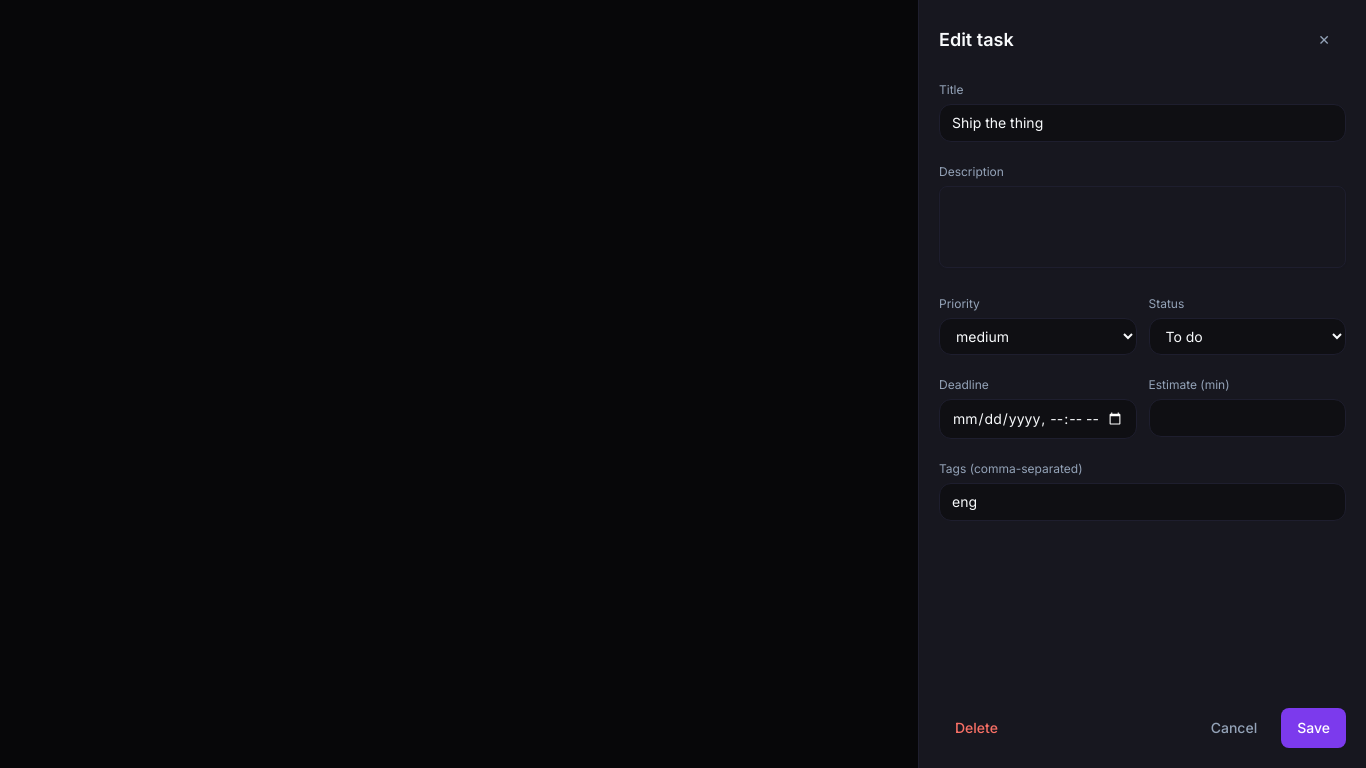
Test: TaskDetailSheet › blocks saving an empty title
Clear the field showing "Ship the thing" at {"x": 1142, "y": 123}, box [939,104,1346,142]
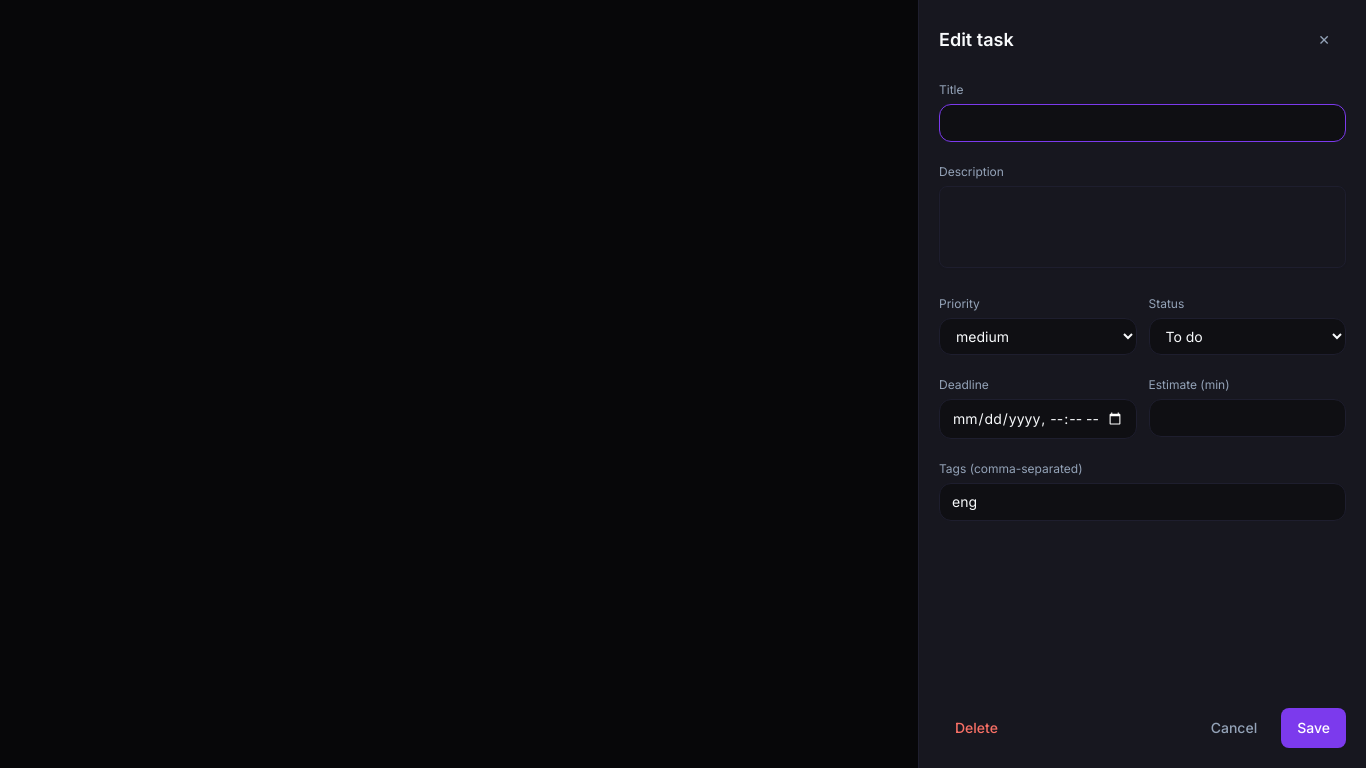
Click the button "Save" at {"x": 1314, "y": 728}, box [1281,708,1346,748]
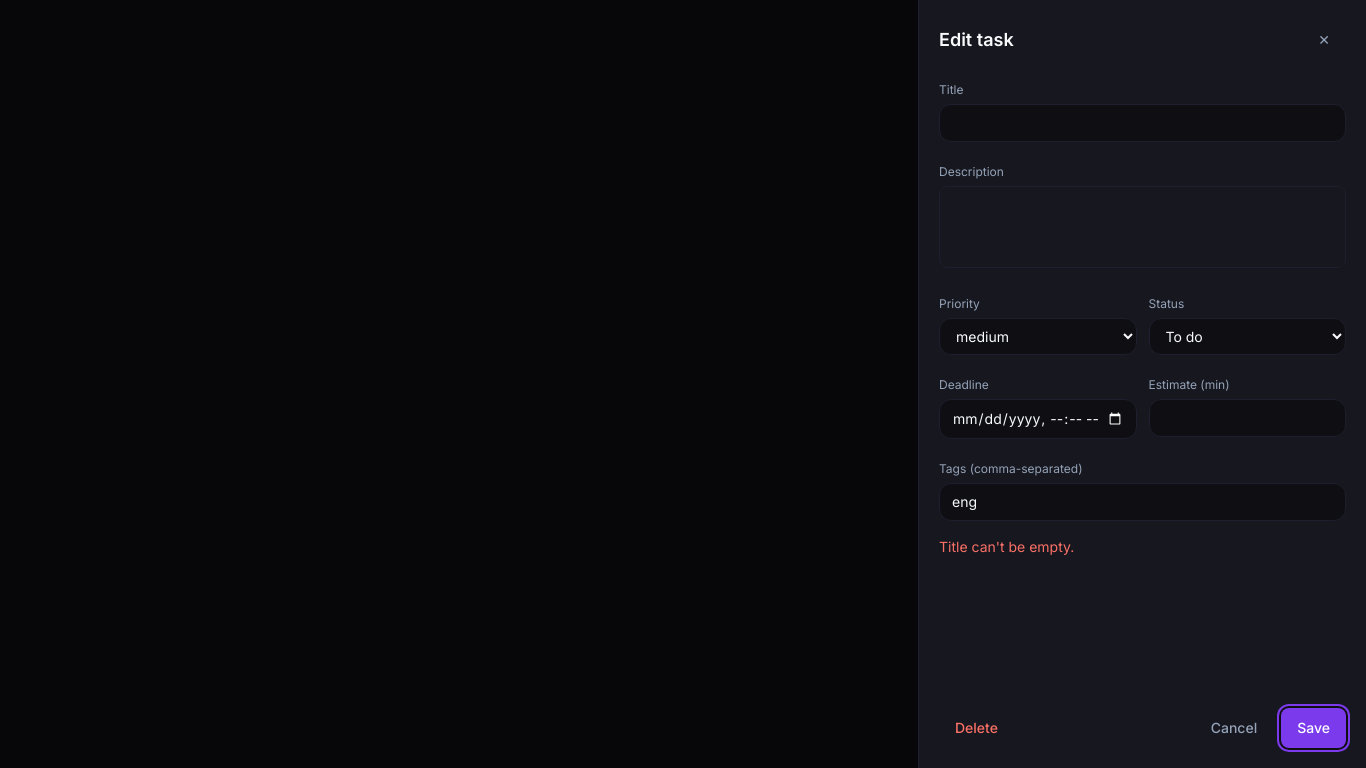
Expected: the text "Title can't be empty." is shown, [939,538,1074,555]
